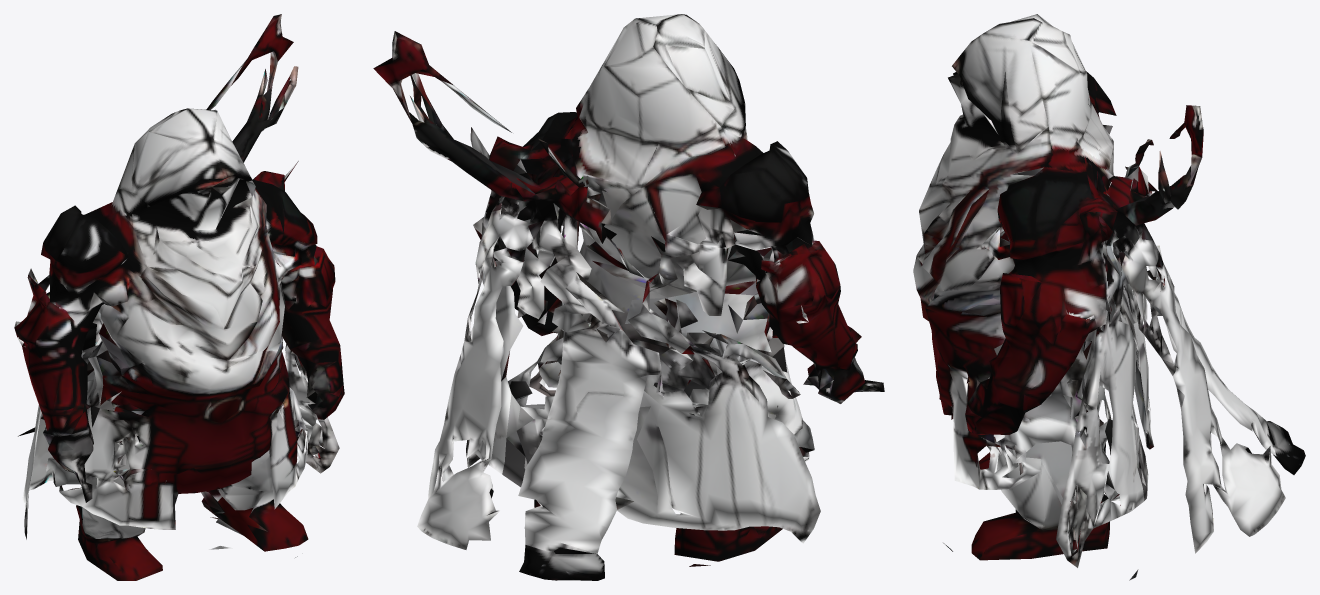
File: bolt_penitent.glb
The picture shows the model from 3 angles, left to right: view 1: azimuth 30°, elevation 25°; view 2: azimuth 150°, elevation 25°; view 3: azimuth 270°, elevation 25°; orthographic projection. The views are drawn at different scales.
Parts seen in each view (by area): view 1: LP_baked; view 2: LP_baked; view 3: LP_baked.
Boxes of the visible parts, <box> form: LP_baked: <box>14,14,344,580</box>; LP_baked: <box>373,14,884,580</box>; LP_baked: <box>913,14,1305,580</box>.
Size of the model in its own units: 1.56 by 1.95 by 1.4.
Materials: 1 (1 with a texture image).
